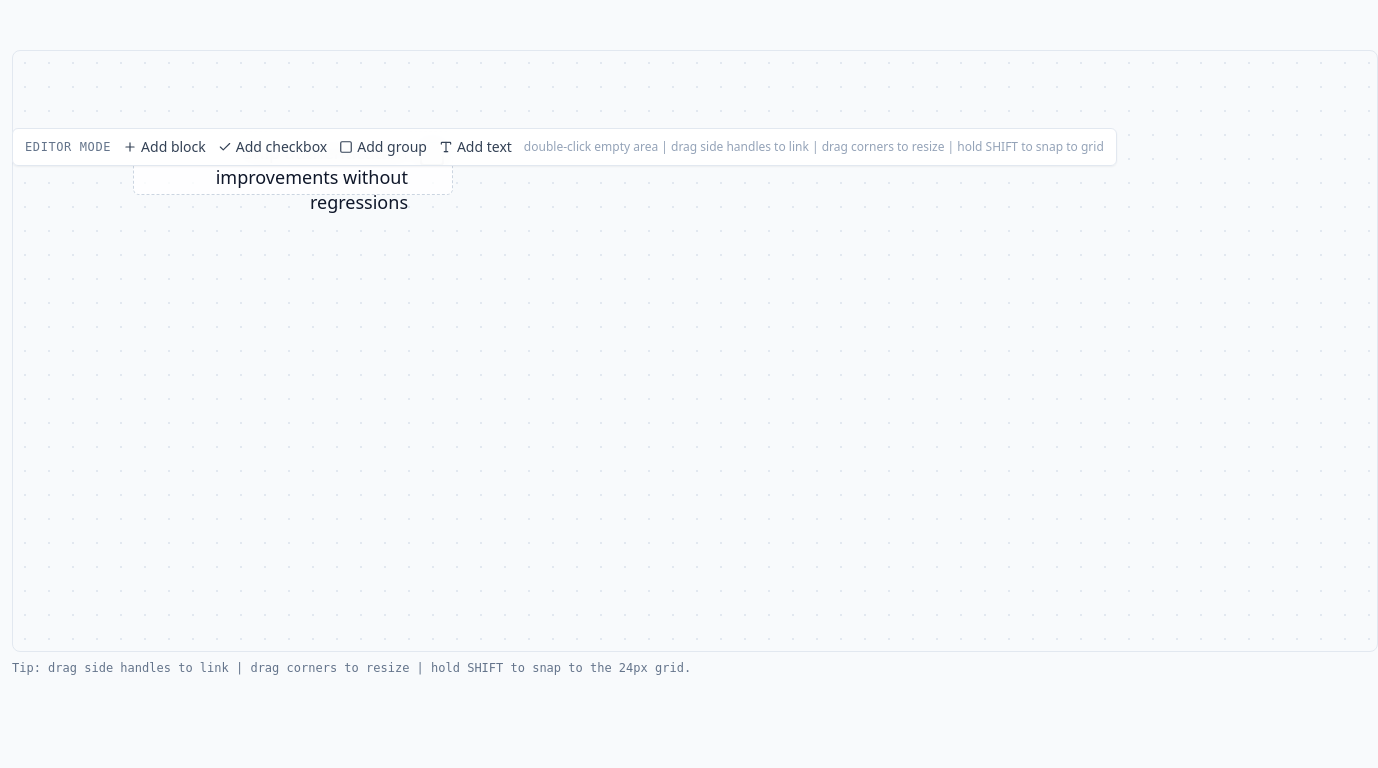
Test case: RoadmapCanvas checkbox blocks › shows add-checkbox actions in editor toolbar and context menu
Expected: the button with test id "editor-add-checkbox-btn" is shown, [218,137,327,157]
Right-click the element with test id "roadmap-canvas" at {"x": 695, "y": 351}, box [12,50,1377,652]
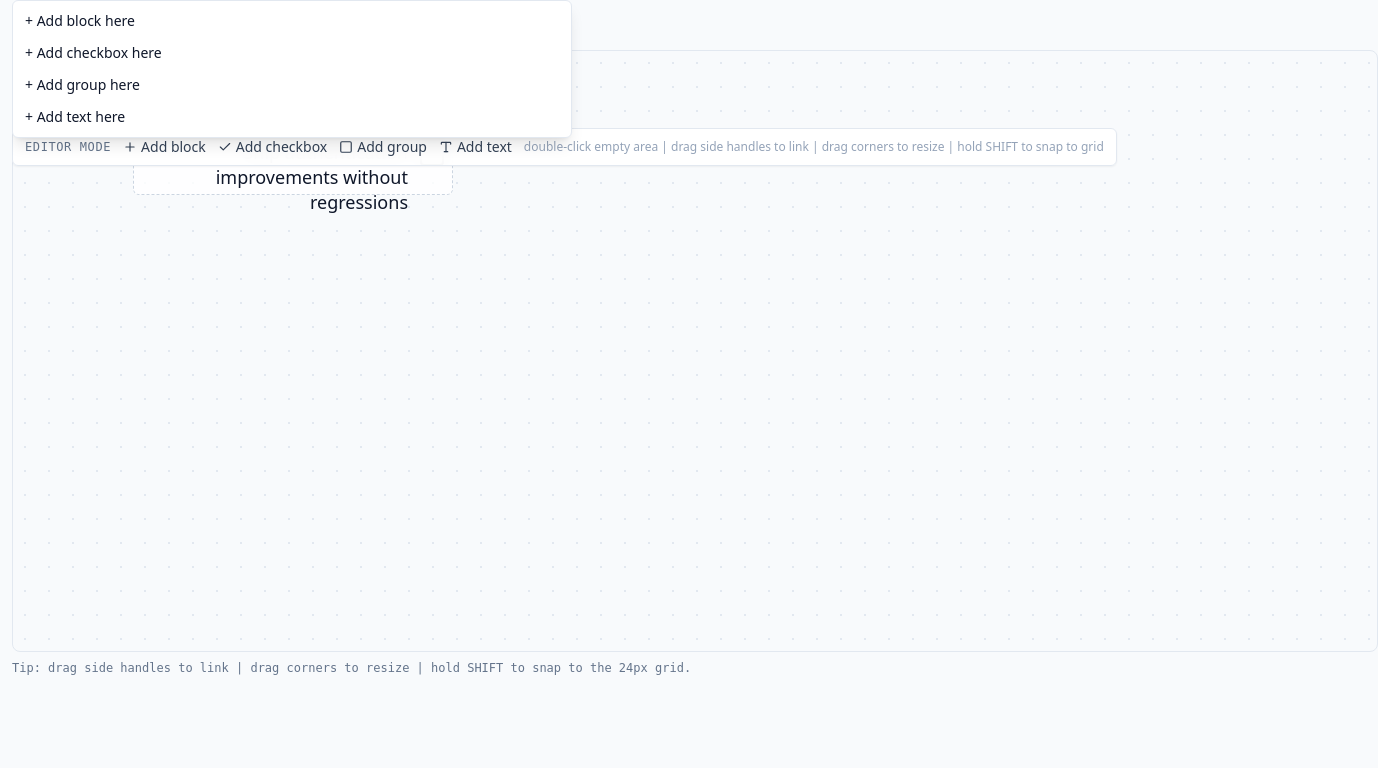
Now the button with test id "ctx-add-checkbox" is shown, box [13,37,571,69]
